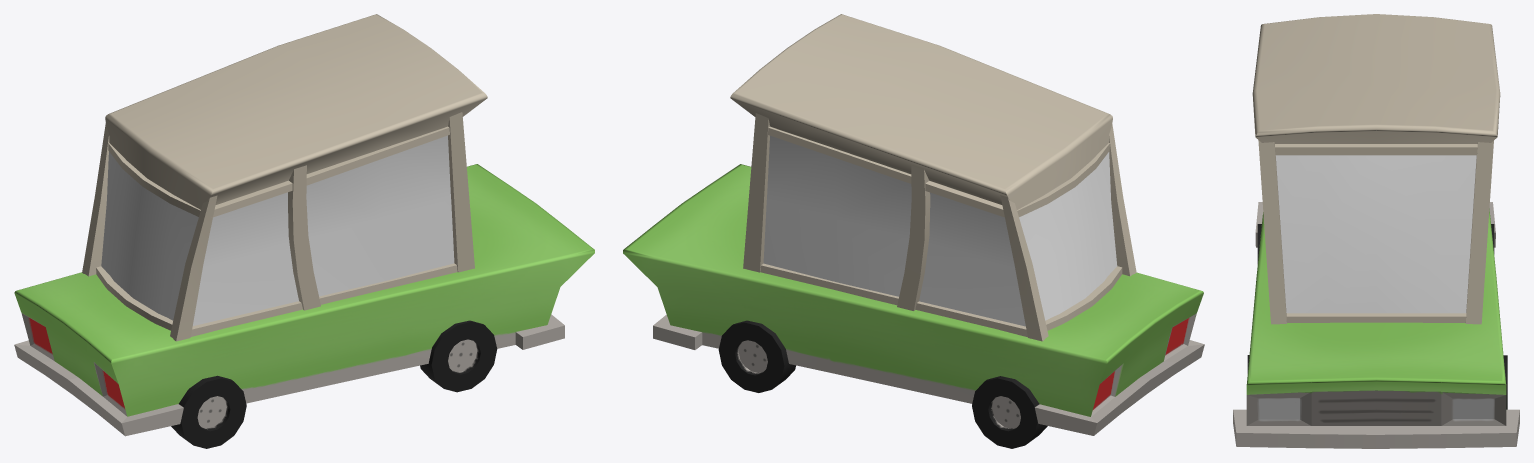
The model's file is PVB export toy car 02.fbx.
3 views of the same model, side by side, from view 1: azimuth 30°, elevation 25°; view 2: azimuth 150°, elevation 25°; view 3: azimuth 270°, elevation 25° (orthographic). The views are drawn at different scales.
Parts seen in each view (by area): view 1: car_base, R_FRONT1, R_FRONT, pCube2, pCube6, pCube16, pCube20, pCube15, pCube9, pCube18, pCube21, pCube17; view 2: car_base, R_FRONT3, R_FRONT2, pCube22, pCube23, pCube15, pCube19, pCube16, pCube10, pCube18, pCube21, pCube13; view 3: car_base, pCube22, pCube2, pCube8, pCube4.
Part boxes in pixels (left/top/right/bottom): car_base: left=14, top=14, right=594, bottom=436; R_FRONT1: left=171, top=375, right=246, bottom=448; R_FRONT: left=420, top=320, right=497, bottom=392; pCube2: left=448, top=112, right=474, bottom=272; pCube6: left=288, top=165, right=320, bottom=310; pCube16: left=170, top=195, right=217, bottom=341; pCube20: left=191, top=263, right=457, bottom=336; pCube15: left=82, top=123, right=109, bottom=276; pCube9: left=306, top=126, right=449, bottom=185; pCube18: left=108, top=142, right=200, bottom=216; pCube21: left=96, top=266, right=172, bottom=330; pCube17: left=211, top=180, right=292, bottom=217; car_base: left=623, top=14, right=1204, bottom=435; R_FRONT3: left=718, top=320, right=795, bottom=392; R_FRONT2: left=972, top=376, right=1047, bottom=448; pCube22: left=743, top=113, right=769, bottom=272; pCube23: left=897, top=165, right=930, bottom=310; pCube15: left=1000, top=195, right=1048, bottom=341; pCube19: left=760, top=263, right=1027, bottom=336; pCube16: left=1109, top=124, right=1136, bottom=276; pCube10: left=768, top=126, right=911, bottom=183; pCube18: left=1017, top=143, right=1109, bottom=217; pCube21: left=1045, top=266, right=1122, bottom=330; pCube13: left=925, top=181, right=1004, bottom=217; car_base: left=1233, top=14, right=1519, bottom=448; pCube22: left=1465, top=141, right=1493, bottom=324; pCube2: left=1258, top=140, right=1286, bottom=324; pCube8: left=1275, top=144, right=1477, bottom=155; pCube4: left=1286, top=313, right=1466, bottom=322.
Bounding box in the file's own units: 22.05 × 13.07 × 10.62.
Materials: 1 (1 with a texture image).
